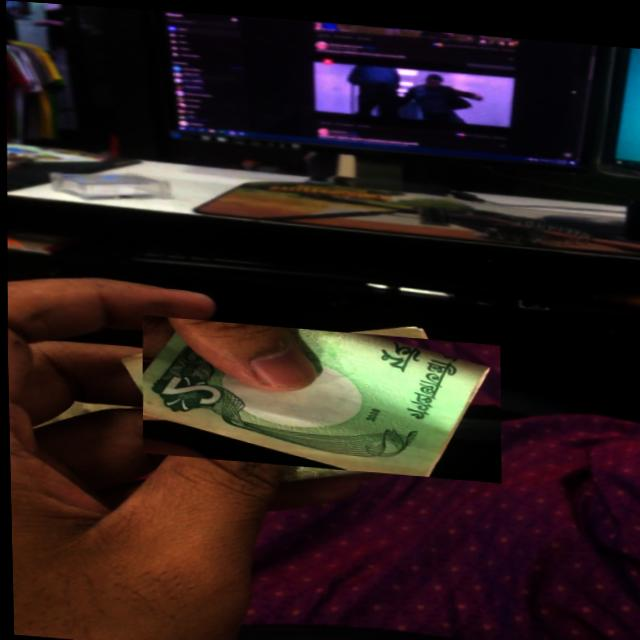Taka: (138, 313, 501, 476)
